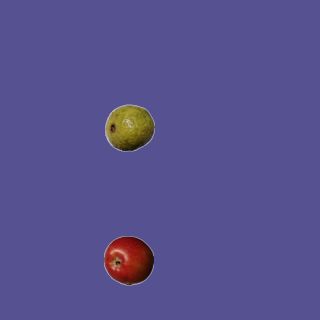Apple Braeburn: (103, 235, 153, 285)
Guava: (104, 102, 154, 152)
